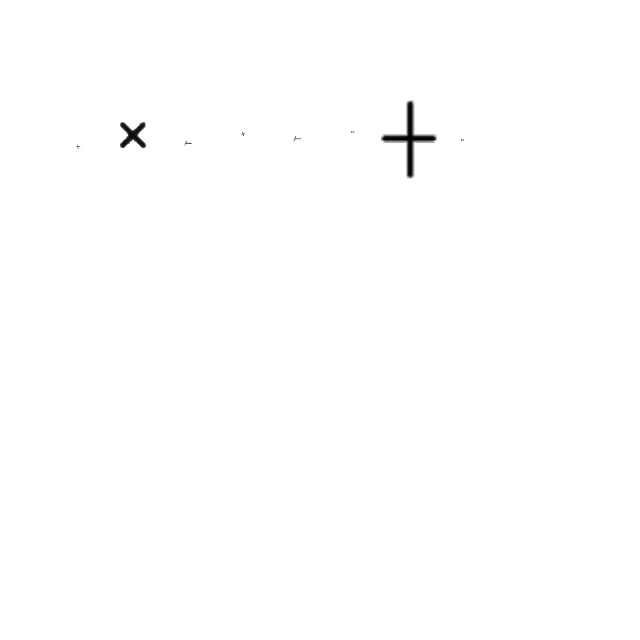chain: (351, 131, 355, 133), (462, 139, 464, 141)
double: (377, 100, 439, 180), (117, 117, 149, 151), (75, 144, 81, 150)
enseble_chain: (294, 136, 302, 142), (184, 142, 192, 146), (241, 132, 245, 136)
